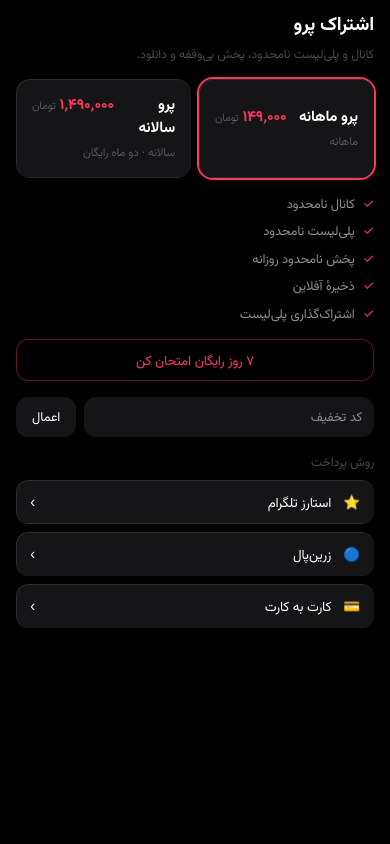
Test: Plans screen › validates a discount code on the server before showing a new price
Step 1. Type "OFF20" into the field with placeholder "کد تخفیف" → (229, 417), box [84,397,374,437]
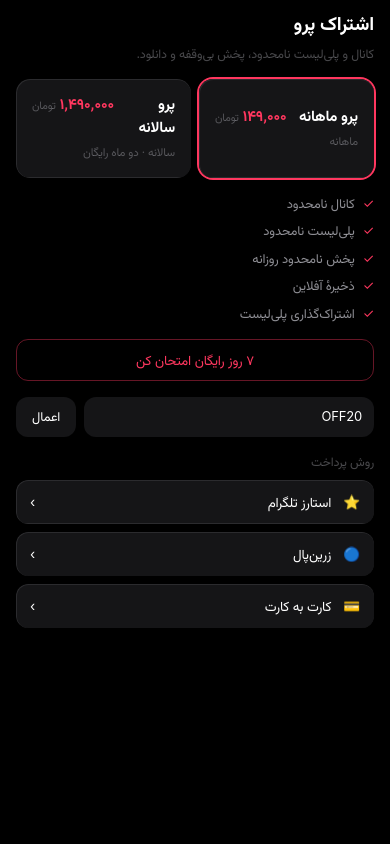
Step 2. Click the button "اعمال" → (46, 417), box [16,397,76,437]
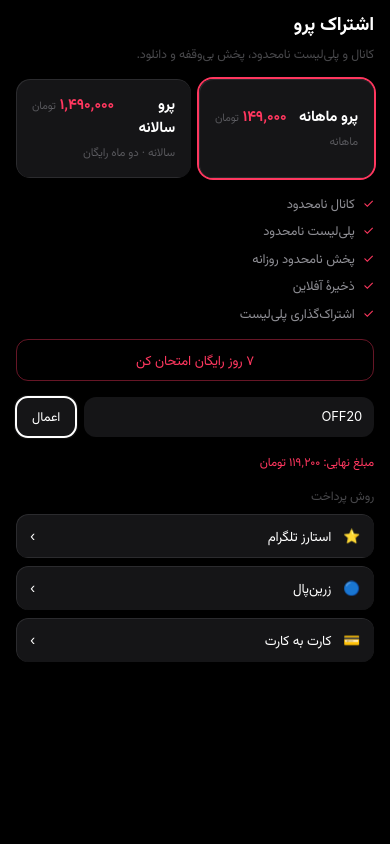
Check: the text "مبلغ نهایی: ۱۱۹٬۲۰۰ تومان" is shown, box [260,454,374,469]
